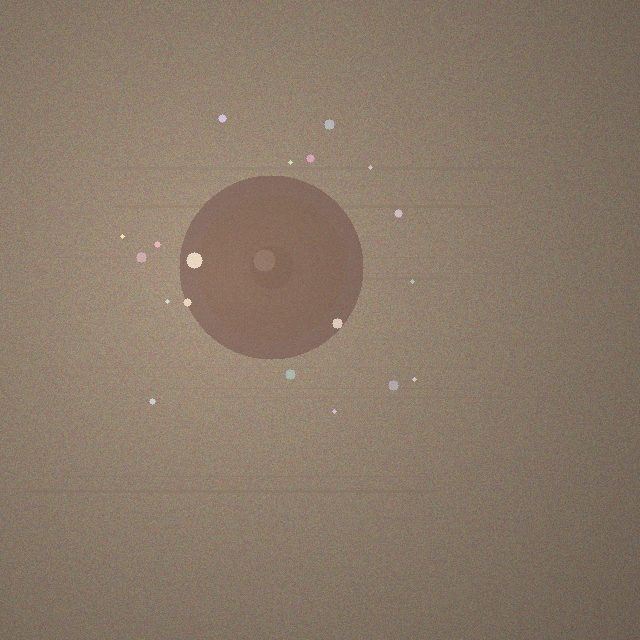overburn: (179, 175, 363, 359)
